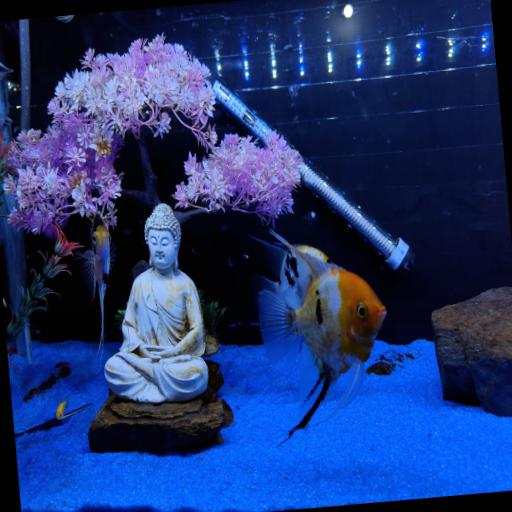Fish: (257, 233, 385, 440), (251, 238, 329, 304), (77, 214, 114, 348), (55, 397, 67, 420), (0, 63, 11, 79)
